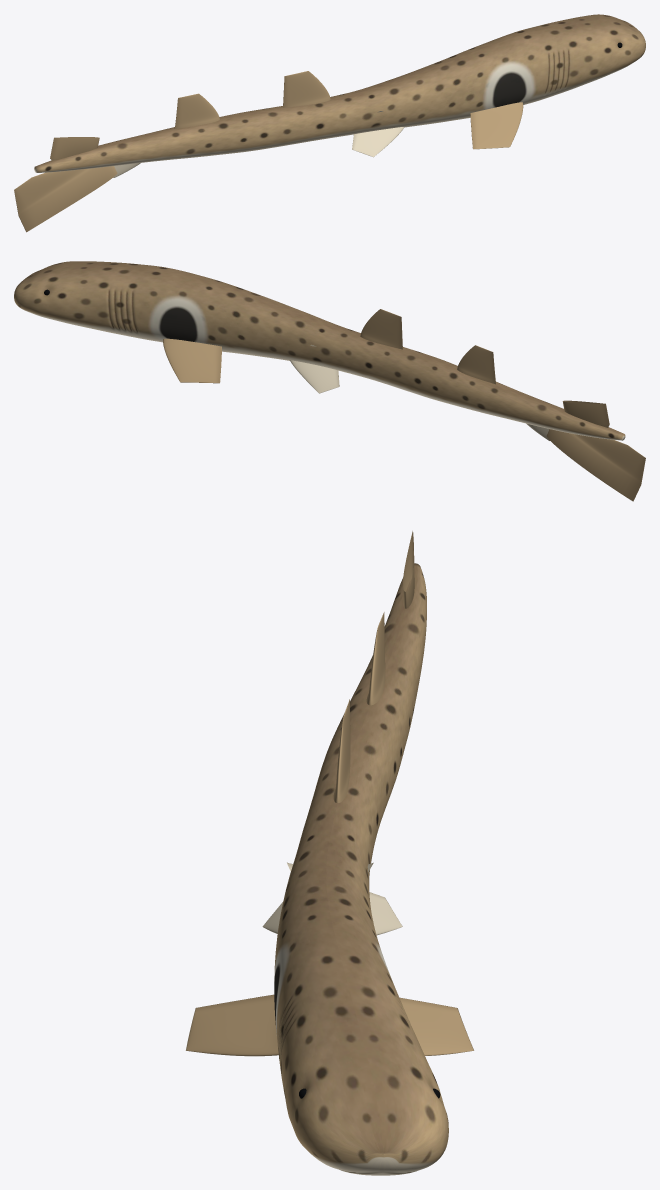
The model's file is epaulette_shark.glb.
3 views of the same model, one above another, from view 1: azimuth 30°, elevation 25°; view 2: azimuth 150°, elevation 25°; view 3: azimuth 270°, elevation 25° (orthographic). The views are drawn at different scales.
Visible parts, largest first — view 1: EpauletteShark_Body, EpauletteShark_Fins; view 2: EpauletteShark_Body, EpauletteShark_Fins; view 3: EpauletteShark_Body, EpauletteShark_Fins.
Part boxes in pixels (bbox=[...]): EpauletteShark_Body: bbox=[34, 14, 645, 172]; EpauletteShark_Fins: bbox=[14, 71, 523, 232]; EpauletteShark_Body: bbox=[14, 261, 625, 440]; EpauletteShark_Fins: bbox=[163, 309, 645, 501]; EpauletteShark_Body: bbox=[274, 563, 448, 1175]; EpauletteShark_Fins: bbox=[185, 531, 473, 1056].
Bounding box in the file's own units: 0.7 × 0.1194 × 0.1416.
Materials: 3 (1 with a texture image).
